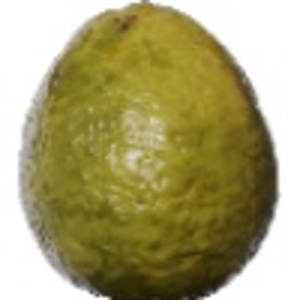goiaba: (16, 3, 281, 297)
